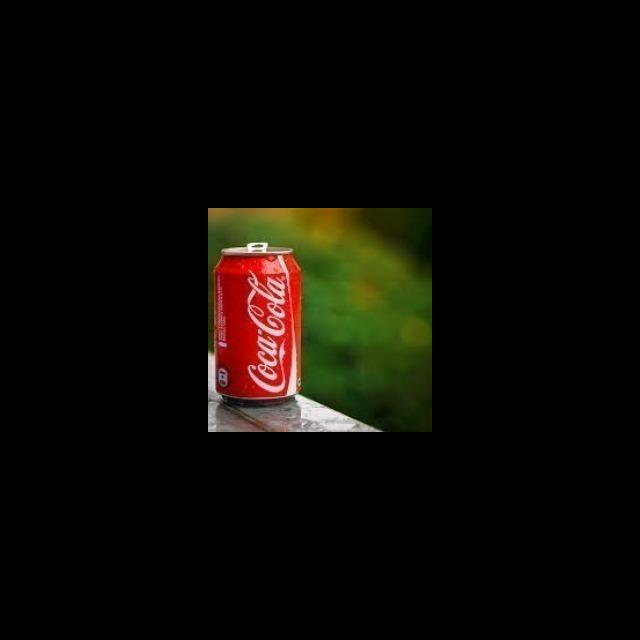metal: (212, 245, 307, 406)
